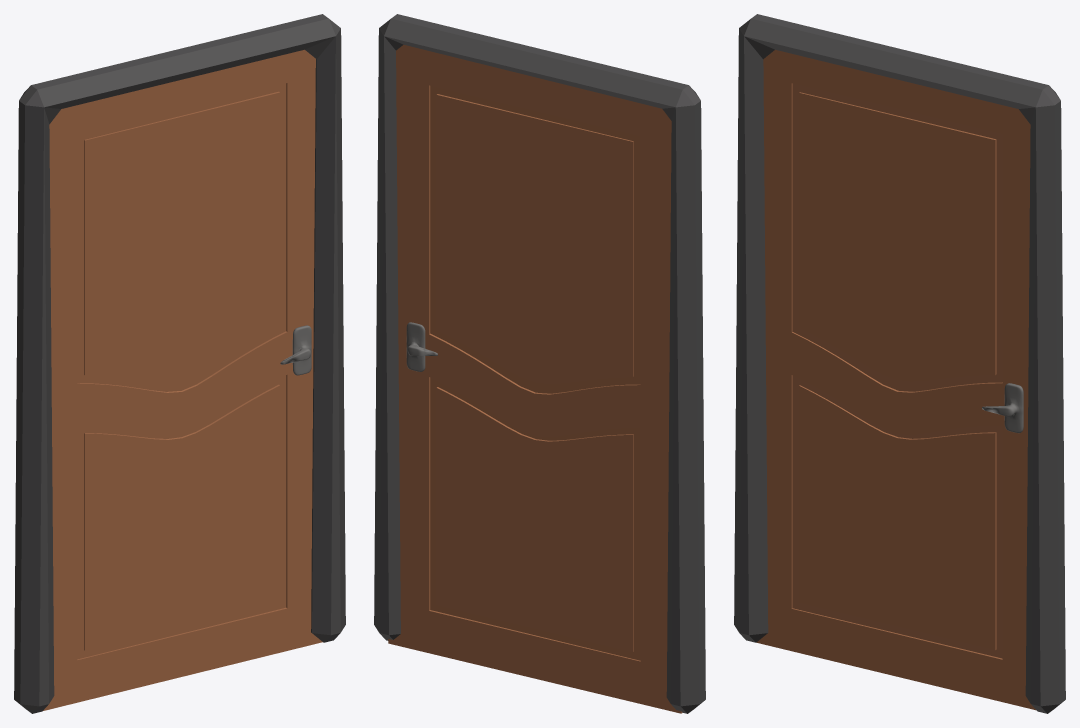
File: Door.fbx
3 renders of one model, left to right at view 1: azimuth 30°, elevation 25°; view 2: azimuth 150°, elevation 25°; view 3: azimuth 330°, elevation 25°, orthographic.
Parts seen in each view (by area): view 1: Plane.003, Plane.001; view 2: Plane.003, Plane.001; view 3: Plane.003, Plane.001.
Boxes of the visible parts, x1,y1,x2,y2 form: Plane.003: (43,49,322,710); Plane.001: (14,14,345,713); Plane.003: (388,44,682,713); Plane.001: (374,14,705,713); Plane.003: (756,49,1035,710); Plane.001: (734,14,1065,713).
Bounding box in the file's own units: 223 × 408 × 26.15.
